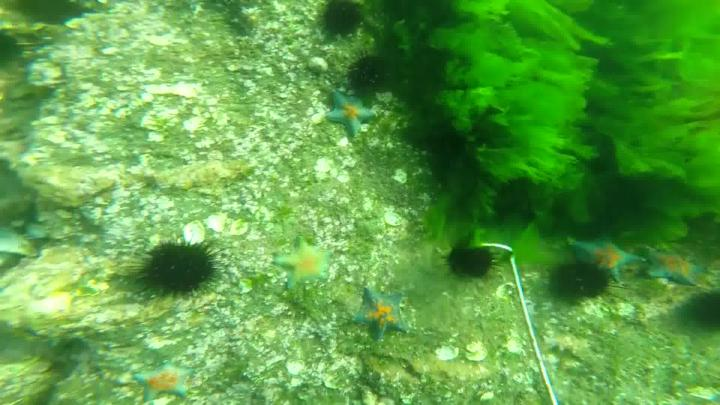echinus: (135, 240, 224, 304), (552, 260, 618, 296), (450, 240, 498, 278), (317, 1, 365, 36), (681, 289, 720, 328), (347, 54, 385, 92)
scallop: (209, 211, 231, 235), (183, 222, 204, 247), (467, 342, 490, 363), (497, 284, 519, 300), (436, 348, 460, 361), (386, 212, 404, 228), (509, 340, 524, 355)
starfish: (570, 231, 647, 280), (273, 233, 335, 291), (328, 86, 381, 140), (642, 244, 704, 287), (356, 289, 408, 340), (134, 361, 195, 404)
